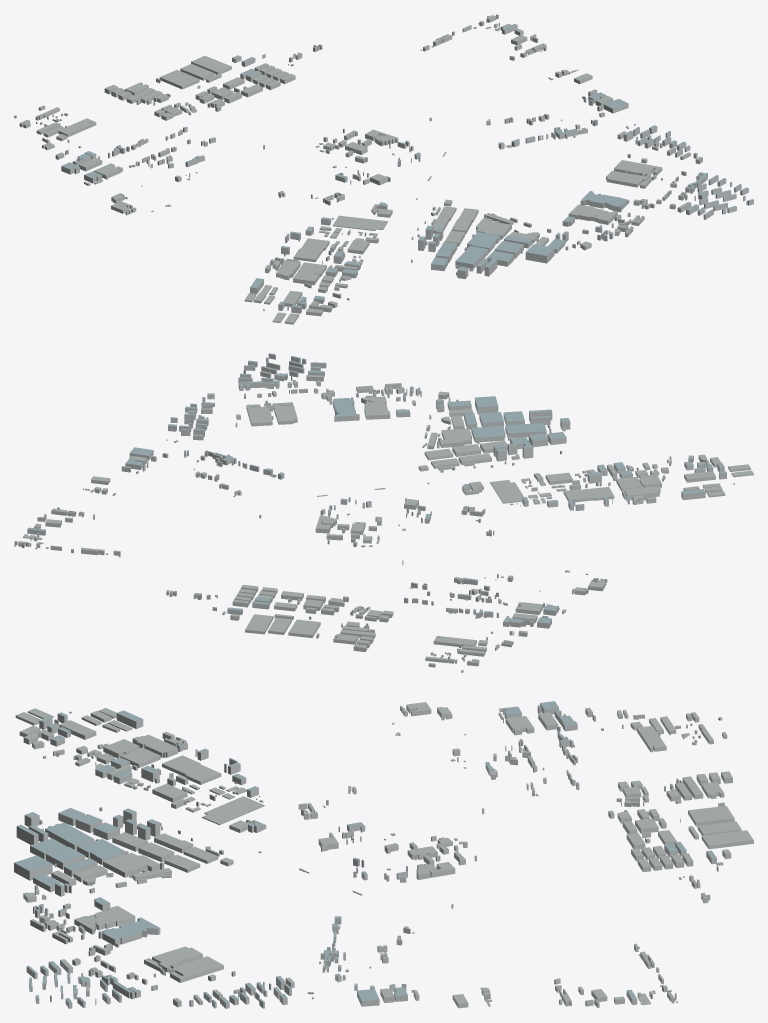
Rendered from far.glb.
3 renders of one model, top to bottom at view 1: azimuth 30°, elevation 25°; view 2: azimuth 150°, elevation 25°; view 3: azimuth 270°, elevation 25°, orthographic. The views are drawn at different scales.
Bounding box in the file's own units: 2141 × 42.6 × 2214.
